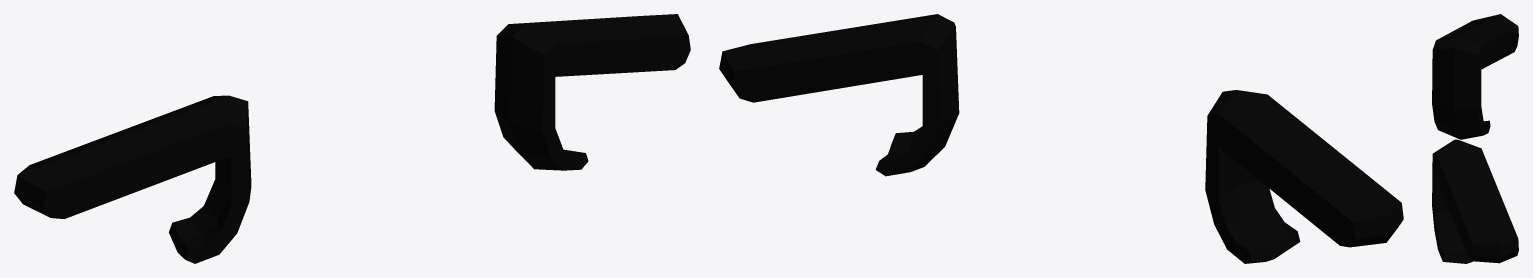
The model's file is eyes_03.fbx.
3 views of the same model, side by side, from view 1: azimuth 30°, elevation 25°; view 2: azimuth 150°, elevation 25°; view 3: azimuth 270°, elevation 25° (orthographic). The views are drawn at different scales.
Visible parts, largest first — view 1: Eyes_03; view 2: Eyes_03; view 3: Eyes_03.
Part boxes in pixels (bbox=[...]): Eyes_03: bbox=[14, 14, 690, 263]; Eyes_03: bbox=[719, 14, 1403, 263]; Eyes_03: bbox=[1432, 14, 1518, 263].
Bounding box in the file's own units: 80.32 × 18.14 × 12.74.
